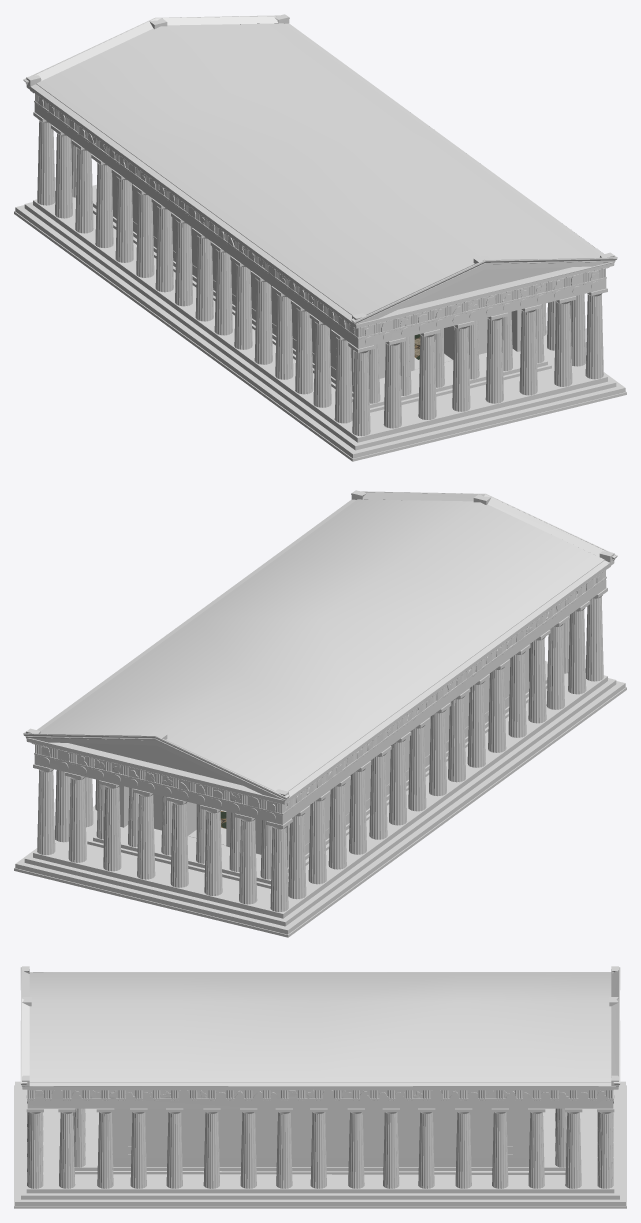
Rendered from Parthenon.fbx.
3 renders of one model, top to bottom at view 1: azimuth 30°, elevation 25°; view 2: azimuth 150°, elevation 25°; view 3: azimuth 270°, elevation 25°, orthographic. The views are drawn at different scales.
Visible parts, largest first — view 1: Parthenon; view 2: Parthenon; view 3: Parthenon.
Boxes of the visible parts, x1,y1,x2,y2 form: Parthenon: [14, 14, 626, 461]; Parthenon: [14, 490, 626, 937]; Parthenon: [14, 966, 626, 1208].
Size of the model in its own units: 3395 by 1956 by 7260.
